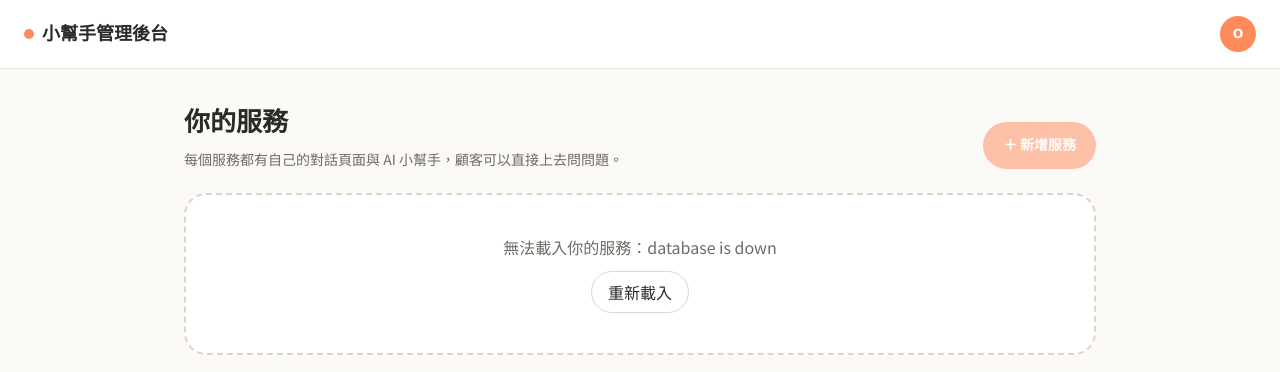
Test: console: owner settings against the backend API › list › shows the error and can retry when the list cannot be loaded
The image size is (1280, 372).
Expected: the heading "你的服務" is shown, [184,103,288,145]
Expected: the message shows "database is down", [647,235,777,259]
Click the button "重新載入" at (640, 292), box [591,271,689,313]
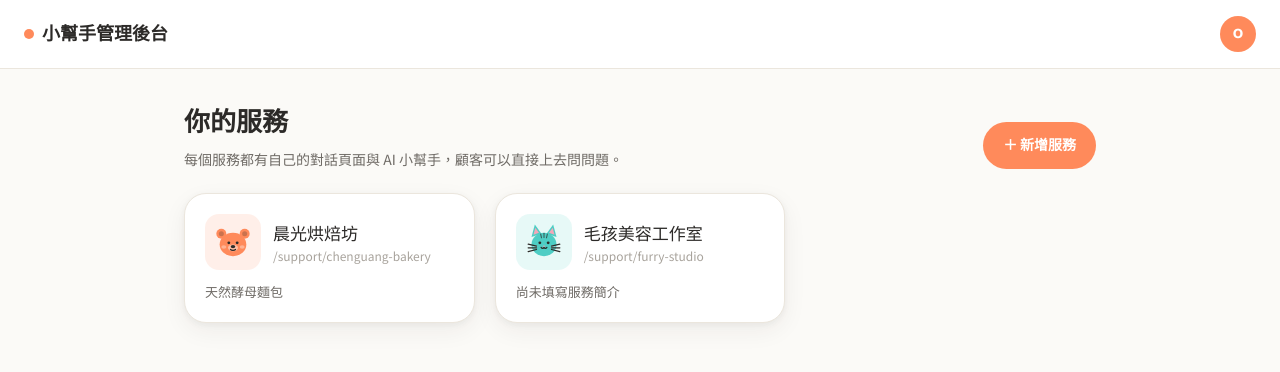
Expected: the text "晨光烘焙坊" is shown, [273,220,358,245]
